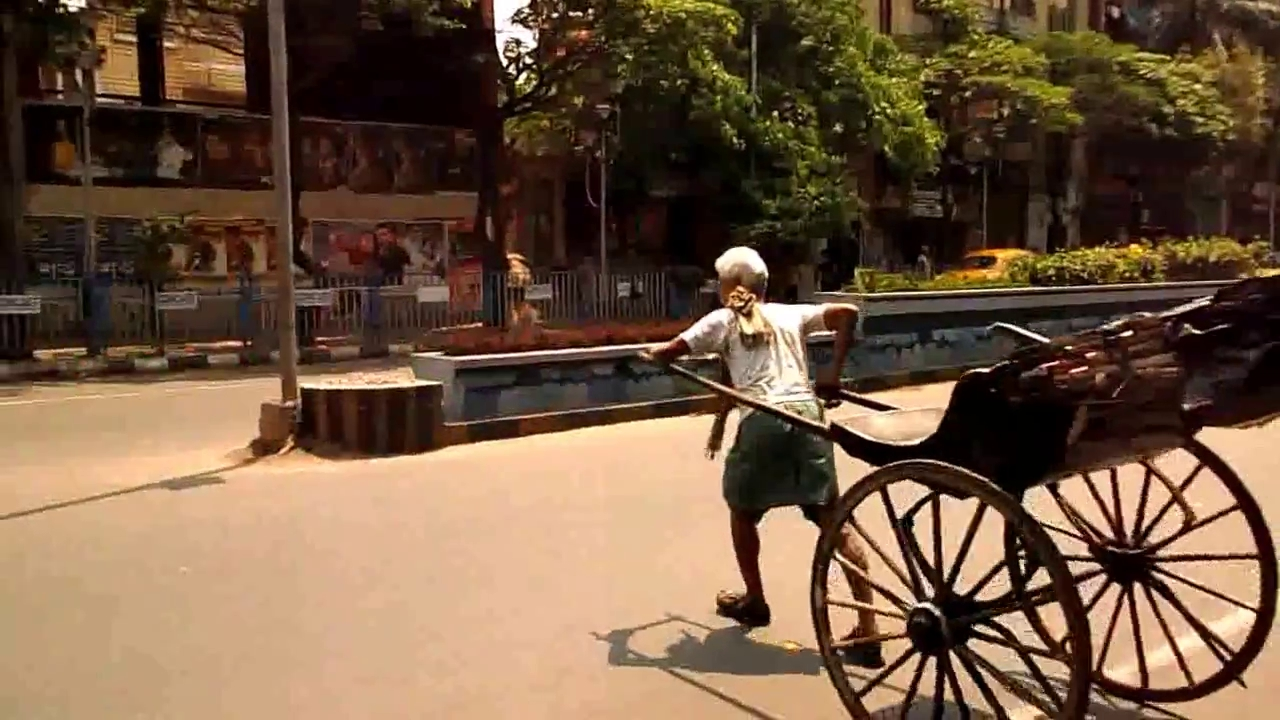person: (648, 246, 885, 668)
